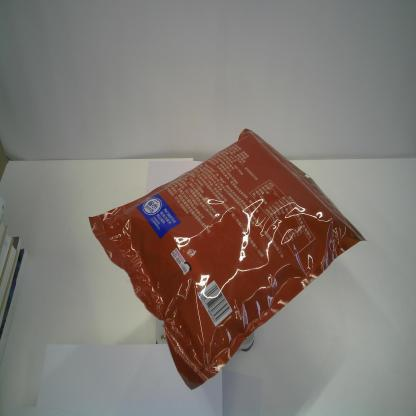Dried Food: (87, 127, 369, 392)
